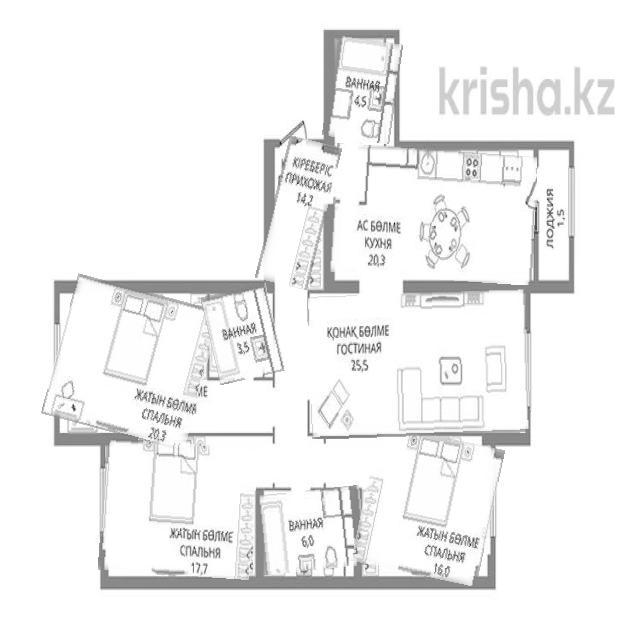balcony: (537, 148, 579, 282)
bathroom: (258, 487, 366, 573), (325, 37, 400, 142), (205, 286, 280, 382)
hallway: (263, 137, 334, 288)
kitchen: (330, 147, 538, 282)
living_room: (308, 291, 529, 438), (50, 282, 214, 443), (100, 440, 256, 578), (358, 430, 498, 582)
